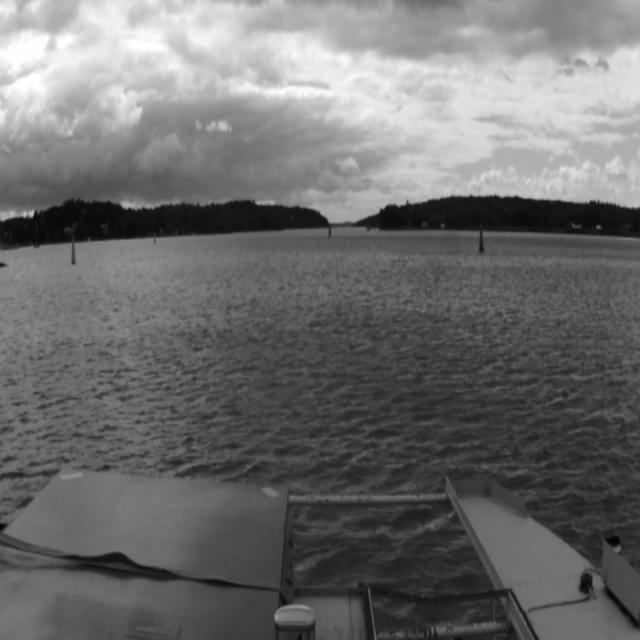buoy: (477, 220, 487, 253), (478, 224, 484, 251), (71, 237, 75, 266), (151, 227, 157, 244), (327, 222, 331, 238), (153, 230, 156, 244)
